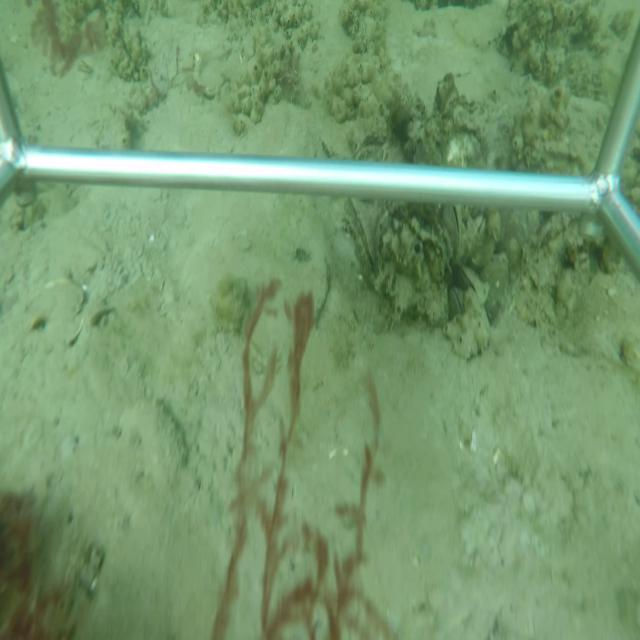Oyster-Closed: (343, 202, 379, 276), (458, 266, 487, 300), (446, 205, 462, 263), (449, 284, 464, 312)
